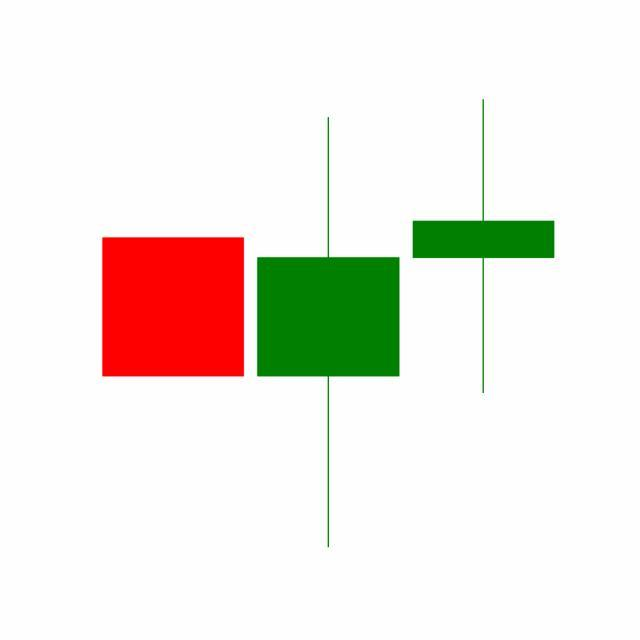Spinning Top: (406, 96, 562, 397)
